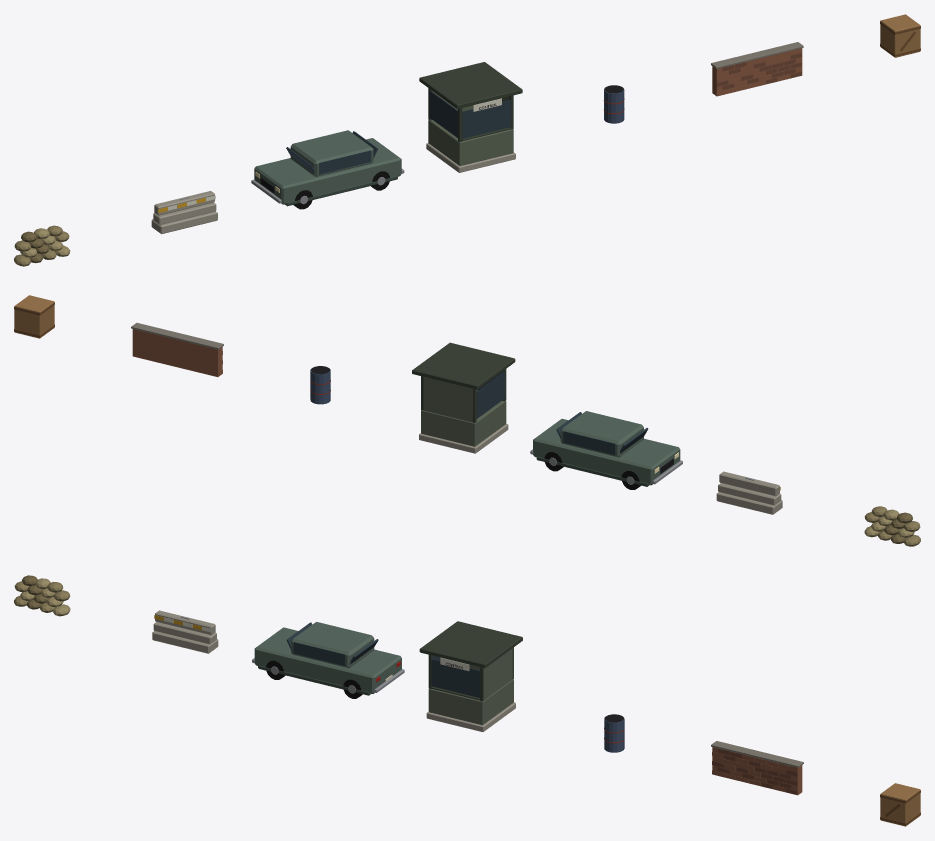
The model's file is street_kit.glb.
The picture shows the model from 3 angles, top to bottom: view 1: azimuth 30°, elevation 25°; view 2: azimuth 150°, elevation 25°; view 3: azimuth 330°, elevation 25°; orthographic projection.
Visible parts, largest first — view 1: Car_Body, Booth_Roof, Booth_Low, Car_Cabin, Crate_Body, Booth_Glass_F, Wall_Core, Booth_Glass_L, Wall_Cap, Booth_Base, Barrier_Foot, Car_Side_Glass_-1 (+3 smaller); view 2: Car_Body, Booth_Roof, Wall_Core, Booth_Low, Car_Cabin, Booth_Wall_B, Crate_Body, Booth_Glass_L, Barrier_Top, Wall_Cap, Booth_Base, Barrier_Foot (+3 smaller); view 3: Car_Body, Booth_Roof, Booth_Low, Car_Cabin, Crate_Body, Booth_Glass_F, Wall_Core, Booth_Wall_R, Wall_Cap, Booth_Base, Barrier_Foot, Car_Side_Glass_-1 (+3 smaller).
Part boxes in pixels (box(x1,y1,x2,y2)): Car_Body: box(254, 138, 401, 204); Booth_Roof: box(419, 62, 522, 108); Booth_Low: box(428, 120, 513, 165); Car_Cabin: box(290, 130, 373, 176); Crate_Body: box(880, 14, 920, 57); Booth_Glass_F: box(462, 100, 510, 138); Wall_Core: box(712, 48, 802, 96); Booth_Glass_L: box(429, 90, 457, 137); Wall_Cap: box(711, 42, 803, 68); Booth_Base: box(426, 143, 515, 172); Barrier_Foot: box(151, 211, 217, 234); Car_Side_Glass_-1: box(319, 150, 371, 174); Car_Body: box(533, 418, 680, 485); Booth_Roof: box(412, 342, 515, 389); Wall_Core: box(132, 329, 222, 376); Booth_Low: box(421, 400, 506, 446); Car_Cabin: box(560, 411, 643, 457); Booth_Wall_B: box(423, 377, 473, 422); Crate_Body: box(14, 295, 54, 338); Booth_Glass_L: box(476, 371, 504, 418); Barrier_Top: box(719, 471, 779, 496); Wall_Cap: box(131, 323, 223, 349); Booth_Base: box(419, 424, 508, 453); Barrier_Foot: box(716, 492, 782, 514); Car_Body: box(254, 627, 401, 693); Booth_Roof: box(419, 621, 522, 668); Booth_Low: box(428, 679, 513, 725); Car_Cabin: box(291, 622, 374, 668); Crate_Body: box(880, 783, 920, 826); Booth_Glass_F: box(431, 659, 479, 697); Wall_Core: box(712, 747, 802, 795); Booth_Wall_R: box(483, 648, 513, 700); Wall_Cap: box(711, 741, 803, 767); Booth_Base: box(426, 702, 515, 731); Barrier_Foot: box(152, 631, 218, 653); Car_Side_Glass_-1: box(293, 642, 345, 665).
Bounding box in the file's own units: 31.38 × 2.4 × 2.3.
